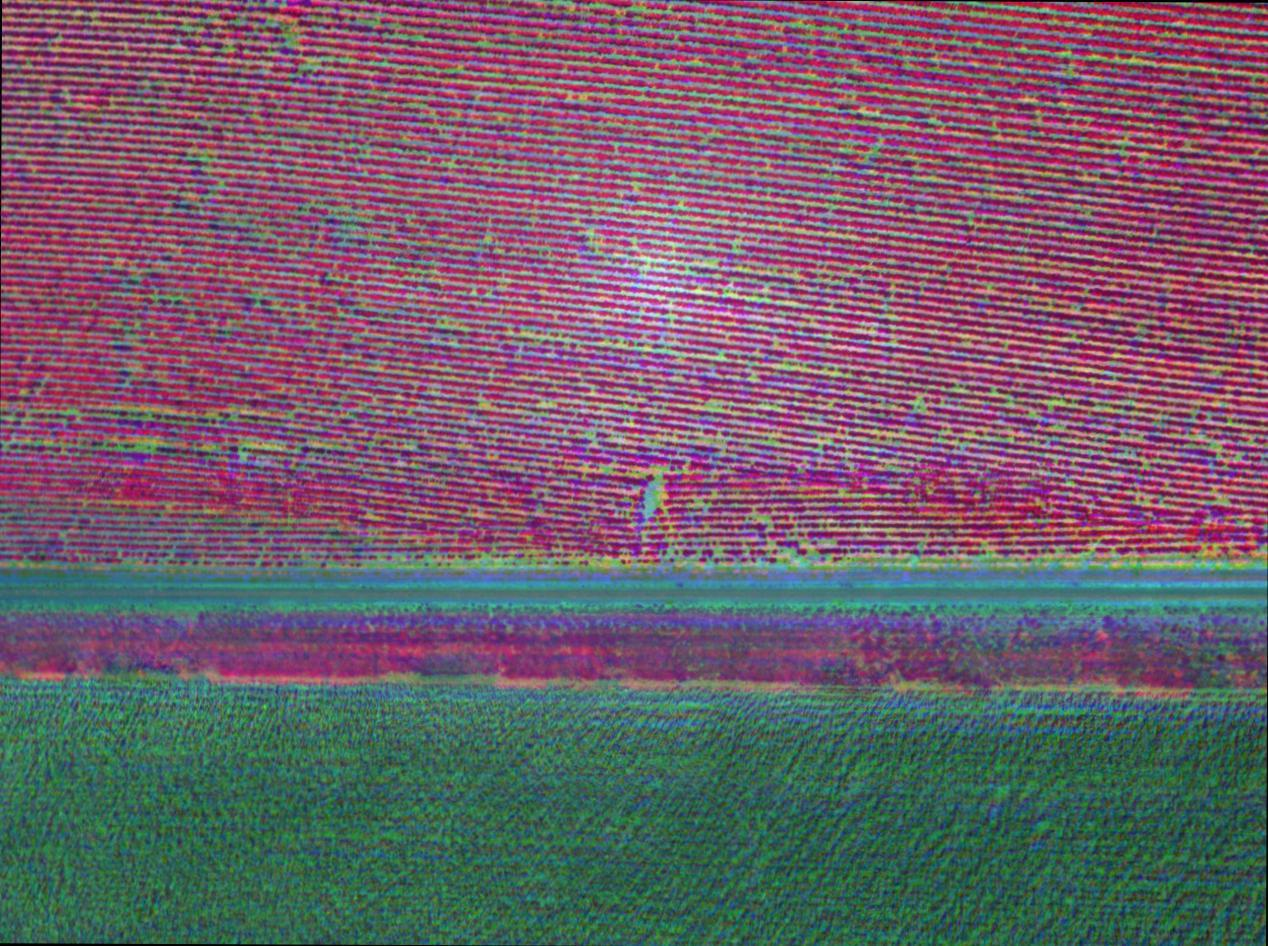dc: (718, 356, 723, 360), (1123, 142, 1127, 146), (204, 149, 208, 153), (634, 183, 638, 187), (541, 403, 545, 407), (449, 163, 453, 166), (289, 414, 292, 418), (154, 295, 157, 298), (866, 153, 868, 157), (862, 122, 865, 124)
